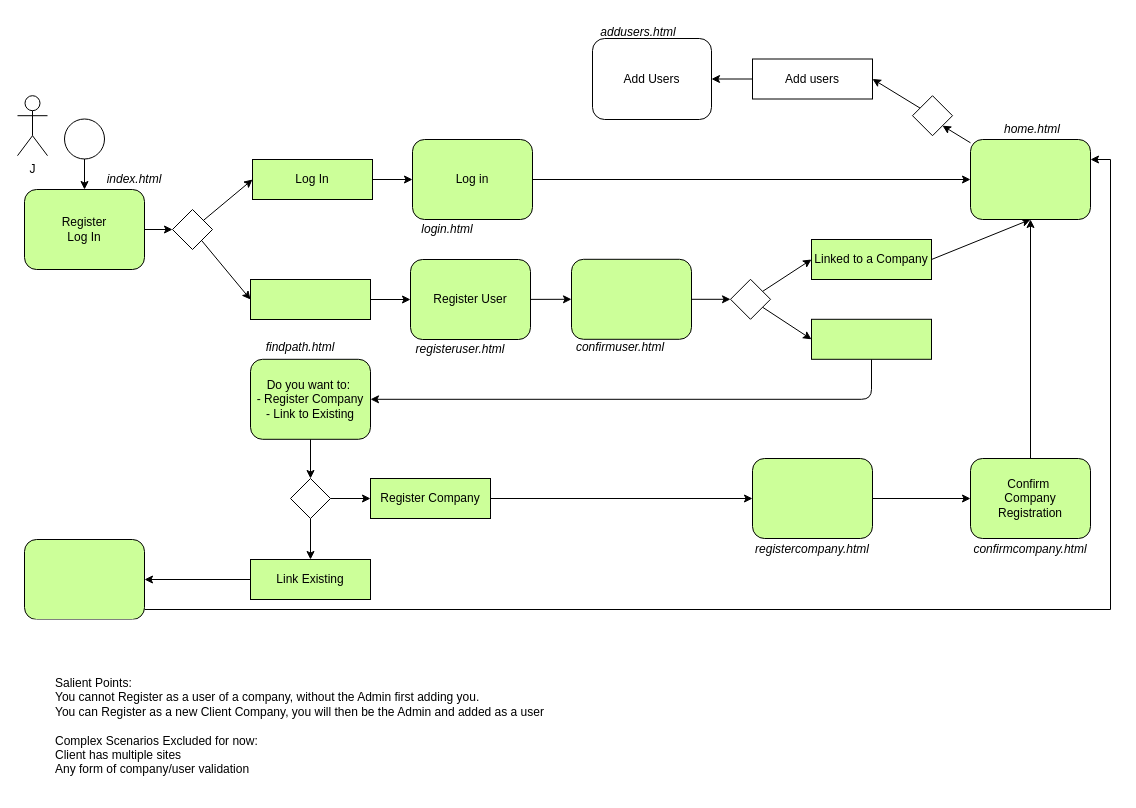
This 1136x808 diagram has some shape labels left out. Each missing label, with the box of its shape:
Company Registration: (752, 458, 872, 538)
Confirm User Registration: (570, 258, 692, 339)
Explain Onboarding Process: (24, 538, 144, 620)
Home Add users (if admin) Other... Other... Other...: (970, 138, 1090, 220)
Not Linked to a Company: (810, 318, 932, 359)
onboarding.html: (24, 619, 144, 639)
Register: (250, 278, 370, 320)
